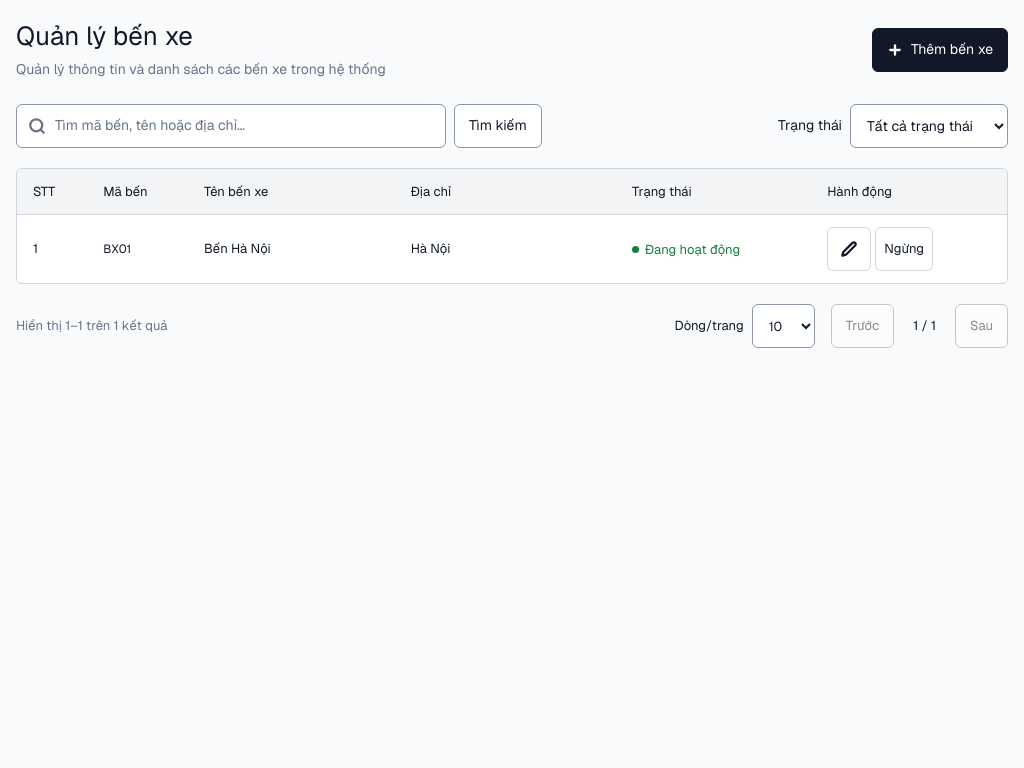
Scenario: Stations user flows › AC-3 requires confirmation before deactivation and refreshes the status text
The image size is (1024, 768).
Expected: the table is shown, [17,168,1007,283]
Click the button "Ngừng" at (904, 249), box [875,227,933,271]
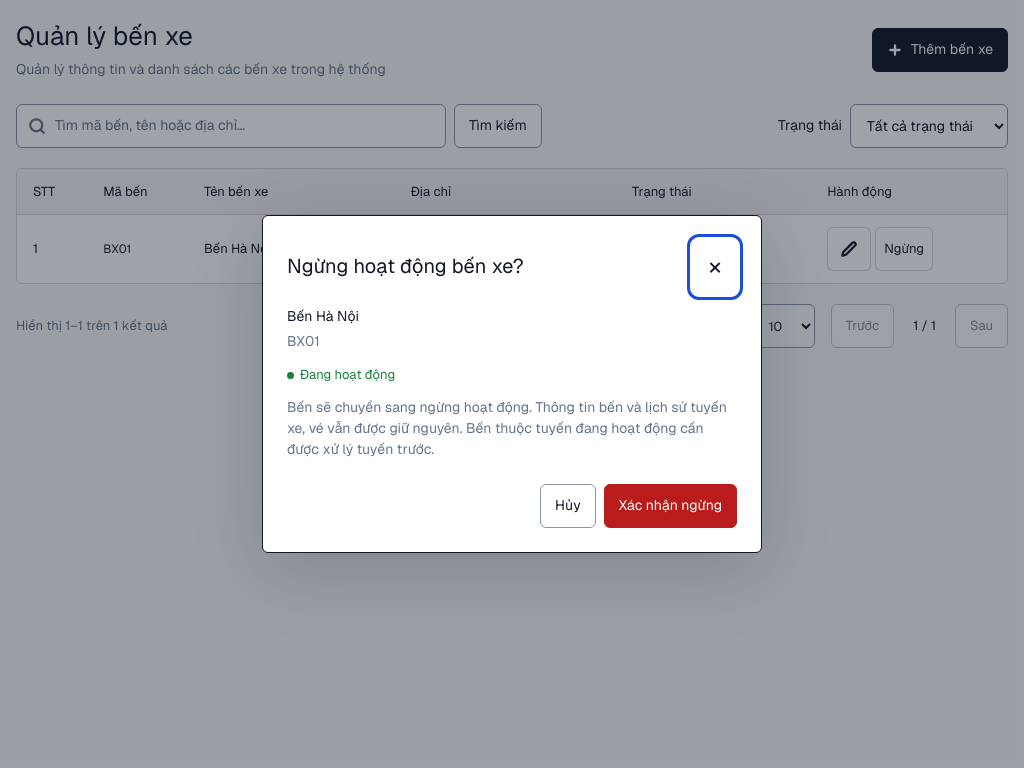
Click the button "Hủy" at (568, 506), box [540,484,596,528]
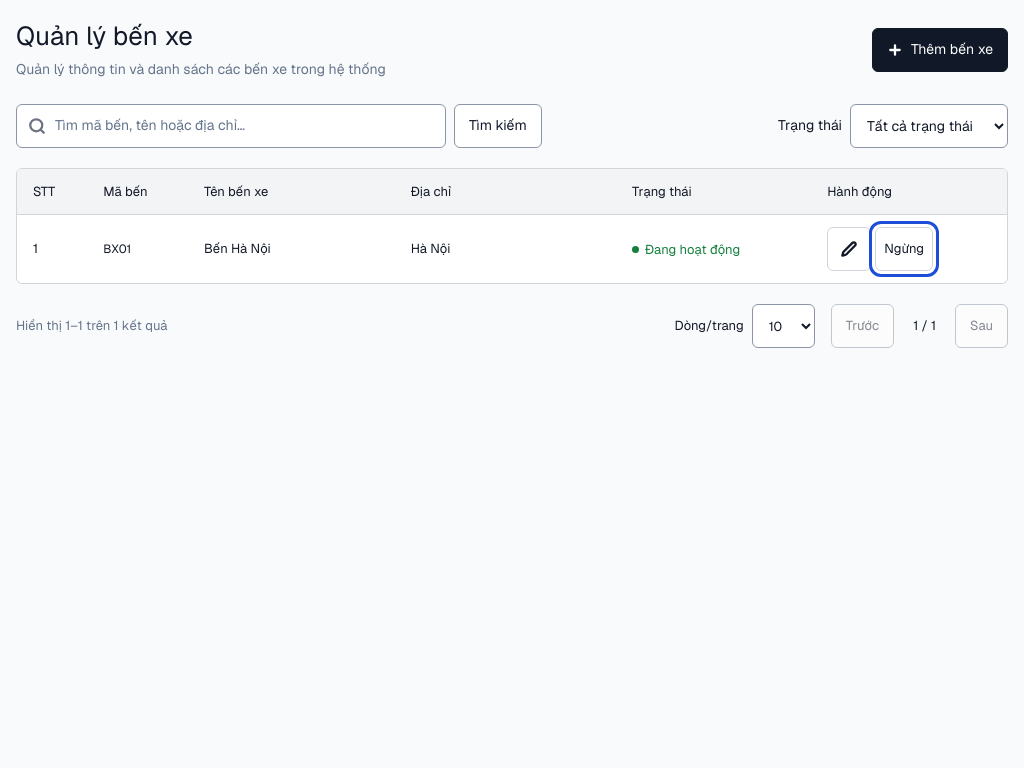
Click the button "Ngừng" at (904, 249), box [875,227,933,271]
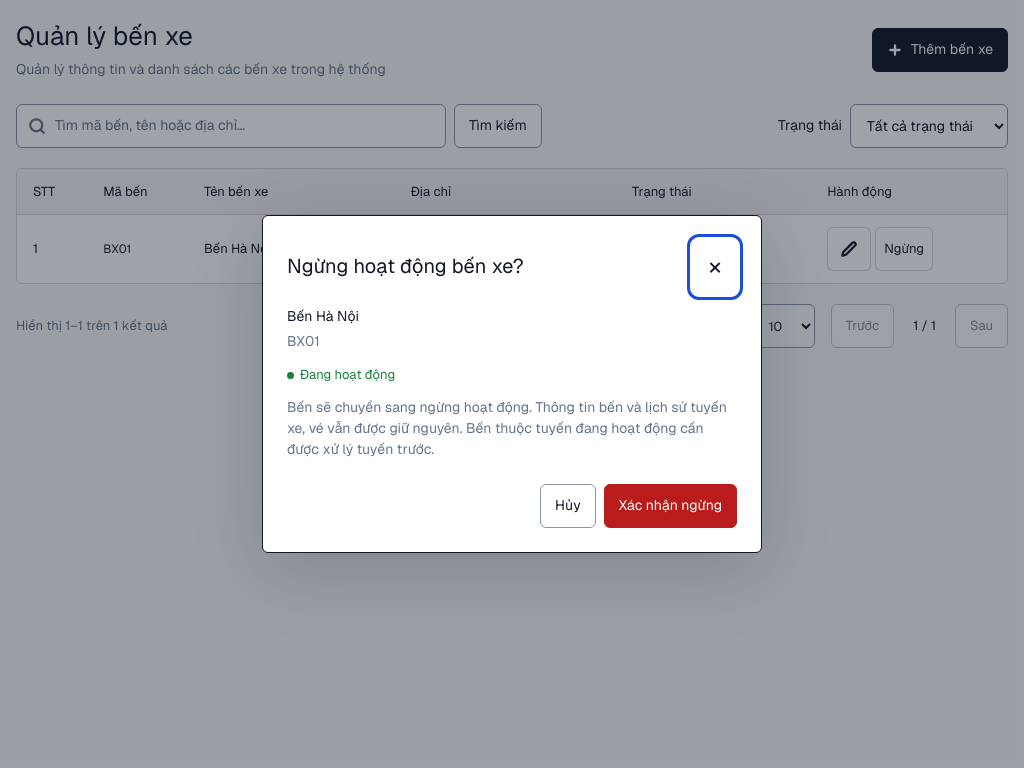
Click the button "Xác nhận ngừng" at (670, 506), box [604,484,737,528]
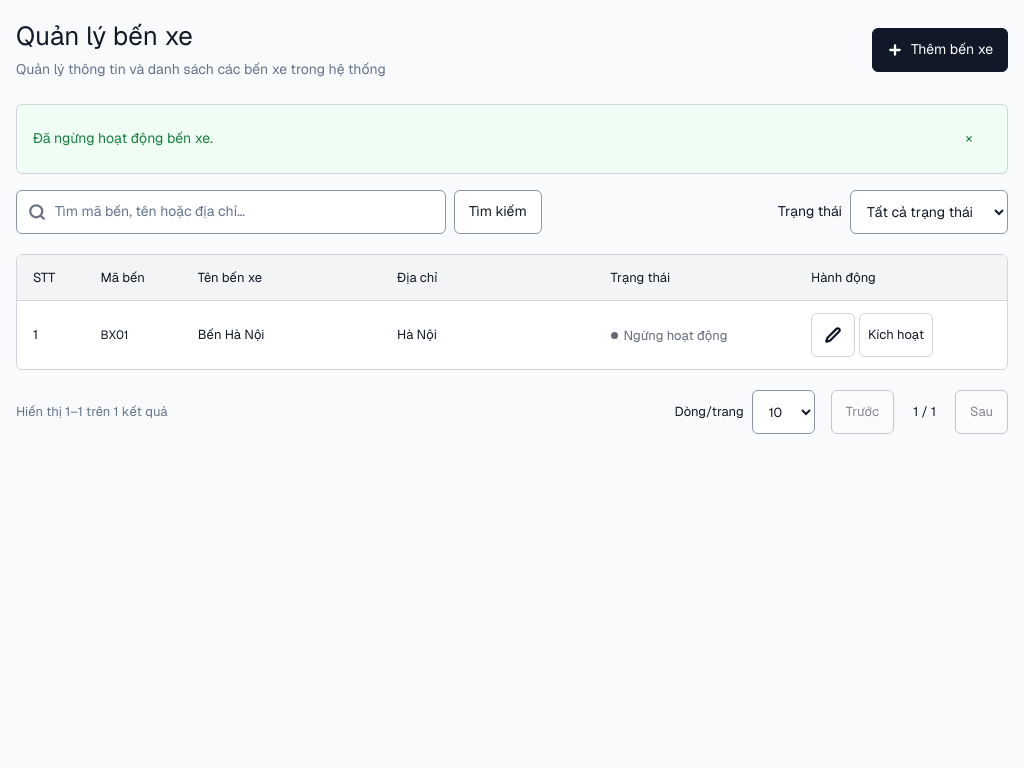
Expected: the dialog is gone
Expected: the table shows "Ngừng hoạt động", [624,327,727,344]
